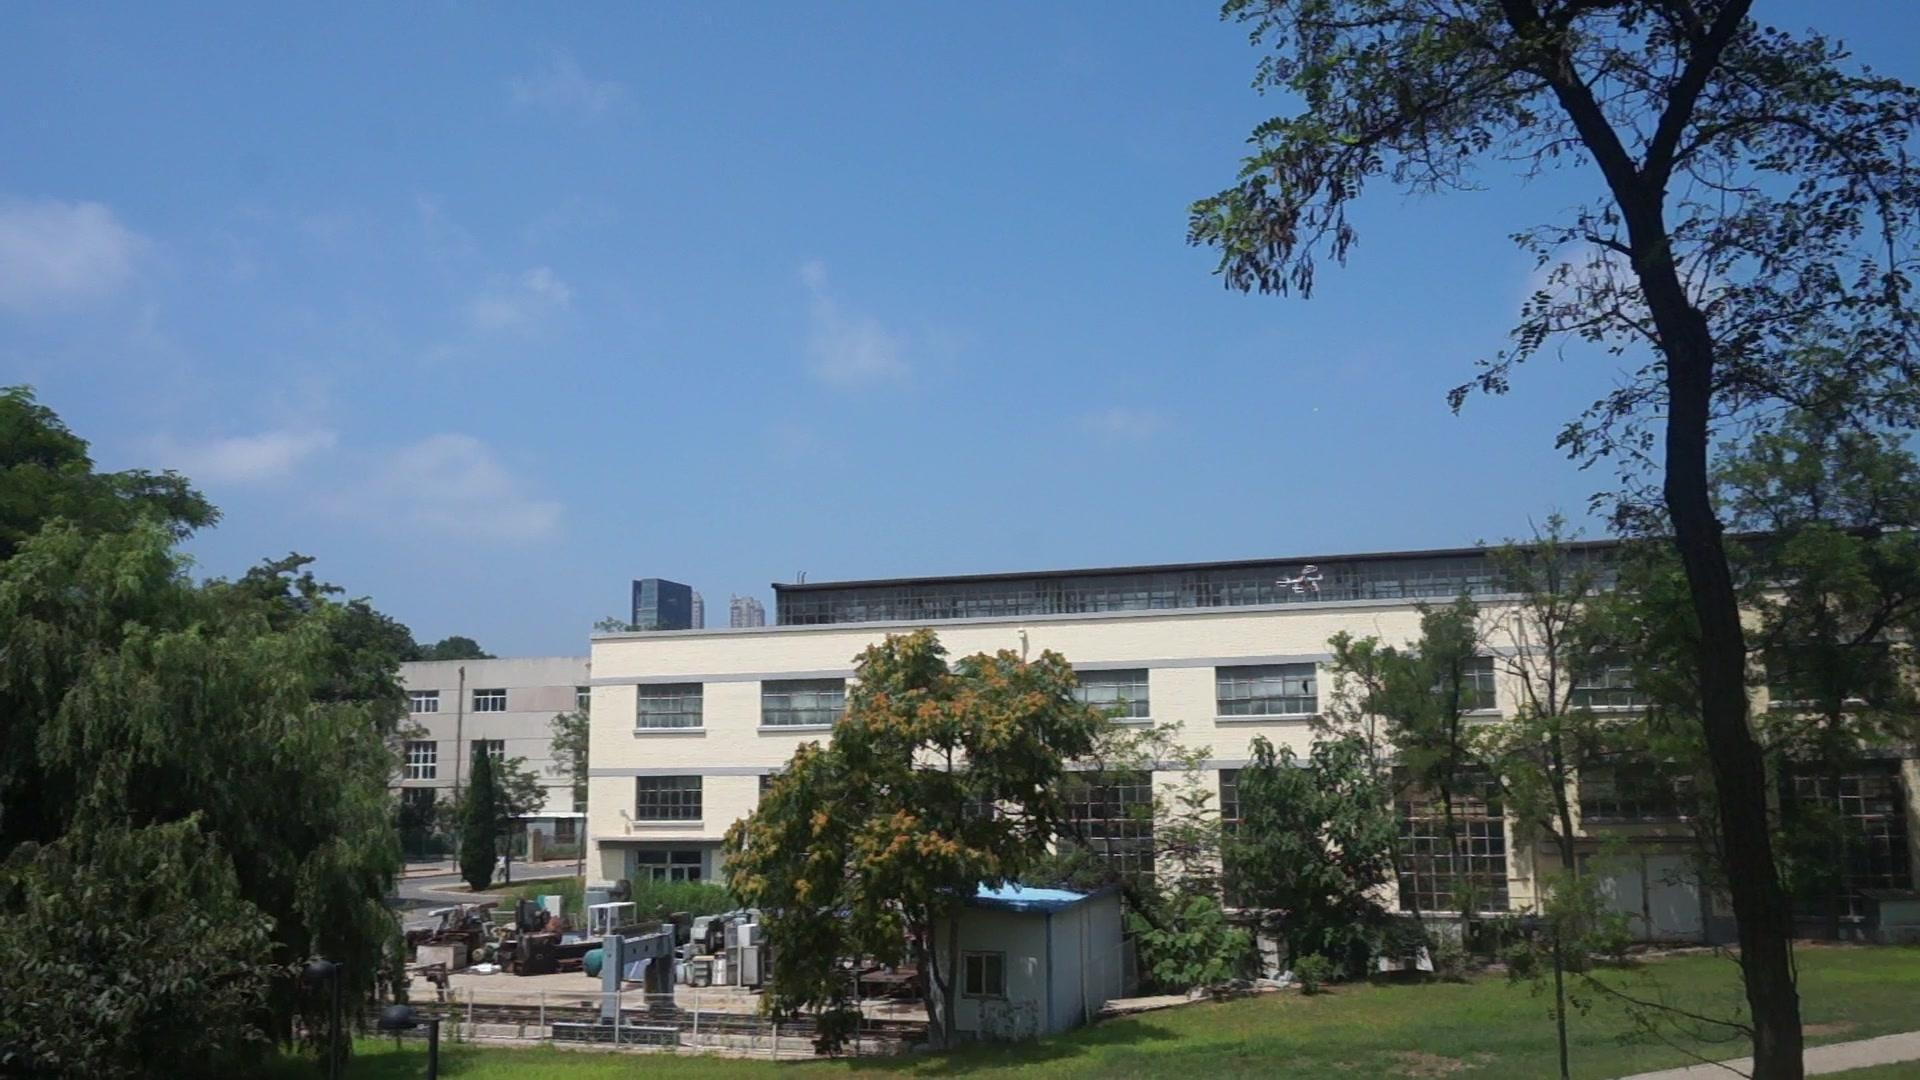UAV: (1276, 564, 1324, 593)
